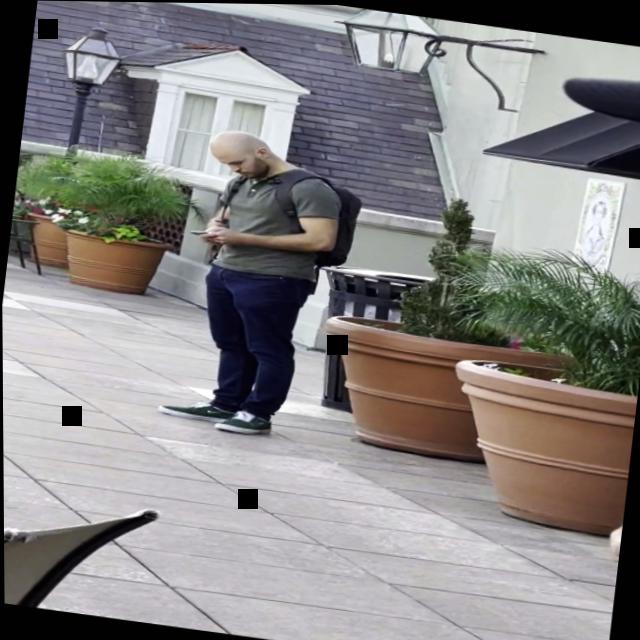NO-Mask: (208, 140, 270, 180)
